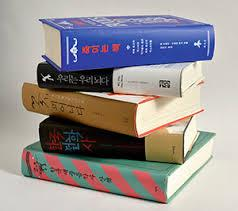book: (20, 129, 216, 203), (38, 14, 215, 72), (21, 81, 204, 137), (38, 114, 199, 164), (36, 59, 206, 97)
